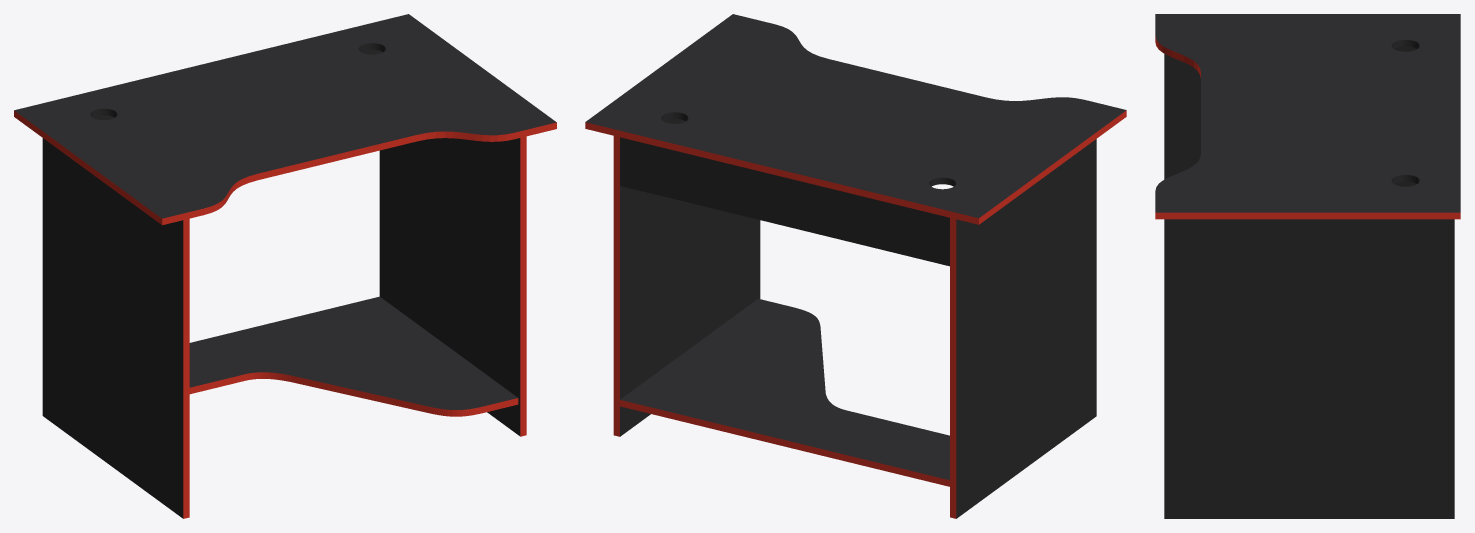
File: Sputnik.glb
3 renders of one model, left to right at view 1: azimuth 30°, elevation 25°; view 2: azimuth 150°, elevation 25°; view 3: azimuth 270°, elevation 25°, orthographic. The views are drawn at different scales.
Parts seen in each view (by area): view 1: 01 Worktop, 02 Left side, 03 Right side, 04 Lower shelf, 01 Worktop | Edge, 04 Lower shelf | Edge, 03 Right side | Edge, 02 Left side | Edge; view 2: 01 Worktop, 02 Left side, 04 Lower shelf, 03 Right side, 05 Rear rail, 01 Worktop | Edge, 04 Lower shelf | Edge, 02 Left side | Edge, 03 Right side | Edge; view 3: 03 Right side, 01 Worktop, 02 Left side, 01 Worktop | Edge.
Part boxes in pixels (x1,y1,x2,y2): 01 Worktop: [14, 14, 556, 218]; 02 Left side: [42, 138, 183, 518]; 03 Right side: [379, 138, 520, 436]; 04 Lower shelf: [189, 296, 517, 409]; 01 Worktop | Edge: [14, 110, 556, 225]; 04 Lower shelf | Edge: [189, 372, 518, 416]; 03 Right side | Edge: [520, 136, 526, 436]; 02 Left side | Edge: [183, 218, 189, 518]; 01 Worktop: [585, 14, 1126, 217]; 02 Left side: [956, 139, 1096, 518]; 04 Lower shelf: [620, 298, 949, 480]; 03 Right side: [620, 119, 760, 436]; 05 Rear rail: [620, 137, 949, 266]; 01 Worktop | Edge: [585, 110, 1126, 224]; 04 Lower shelf | Edge: [620, 400, 949, 486]; 02 Left side | Edge: [950, 218, 956, 518]; 03 Right side | Edge: [613, 136, 619, 436]; 03 Right side: [1164, 219, 1454, 518]; 01 Worktop: [1155, 14, 1460, 212]; 02 Left side: [1164, 46, 1416, 186]; 01 Worktop | Edge: [1155, 36, 1460, 219].
Size of the model in its own units: 1 by 0.75 by 0.65.
